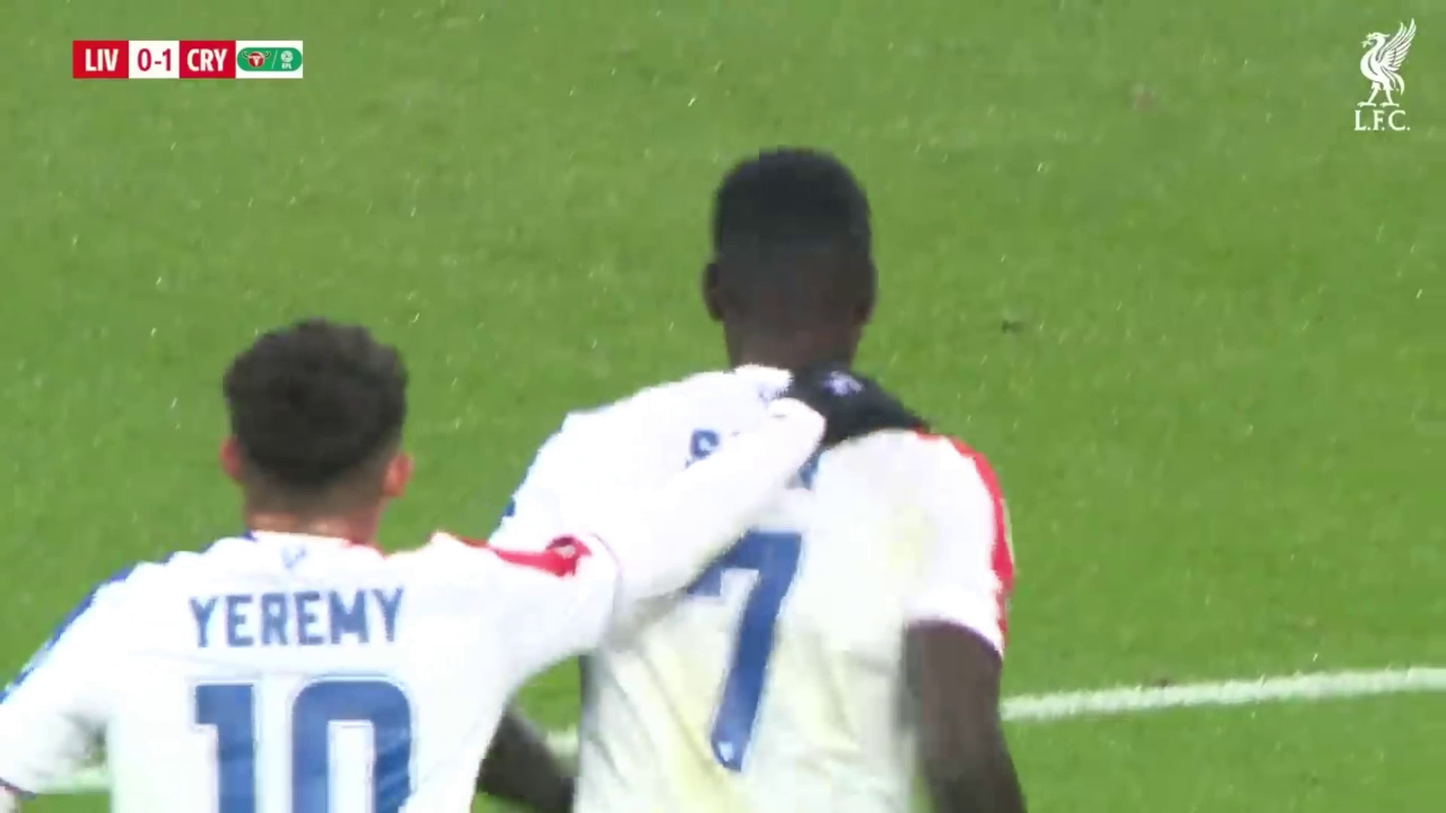player: (525, 145, 1028, 804), (0, 319, 616, 806)
